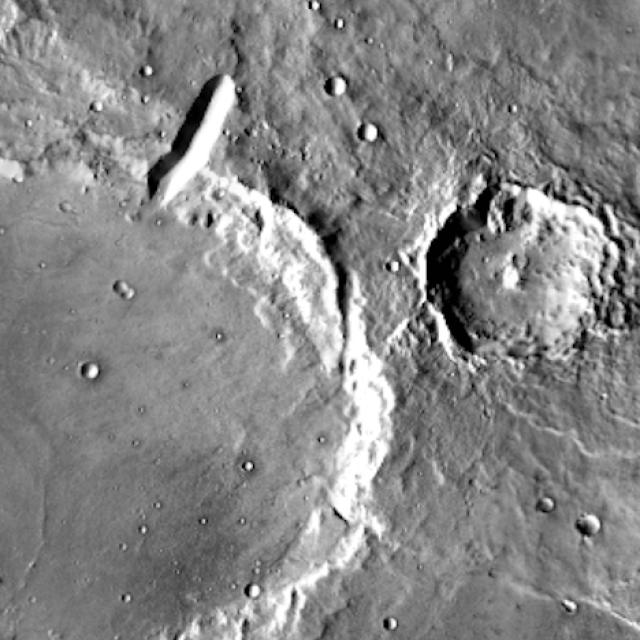Crater: (0, 120, 420, 640)
